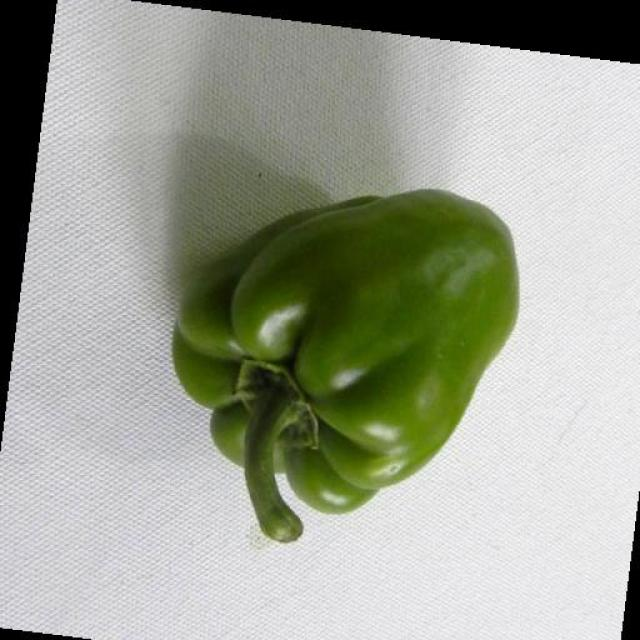Fresh_Capsicum: (193, 180, 530, 510)
